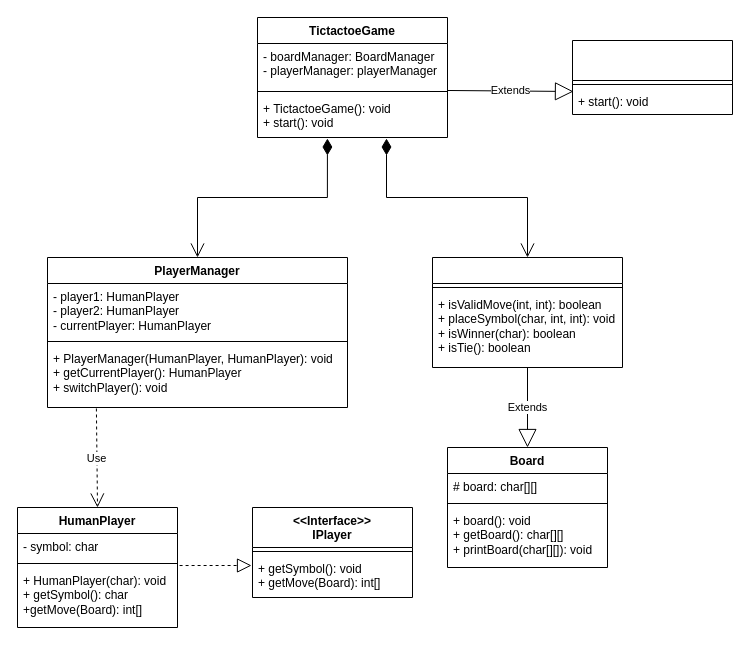
Some shapes in this 750 by 648 pixel diagram are drawn without their labels. The box of each missing label's shape, as (x1, y1, x2, y2) in pixels:
<<Abstract>> Game: (572, 40, 732, 114)
BoardManager: (432, 256, 622, 368)
